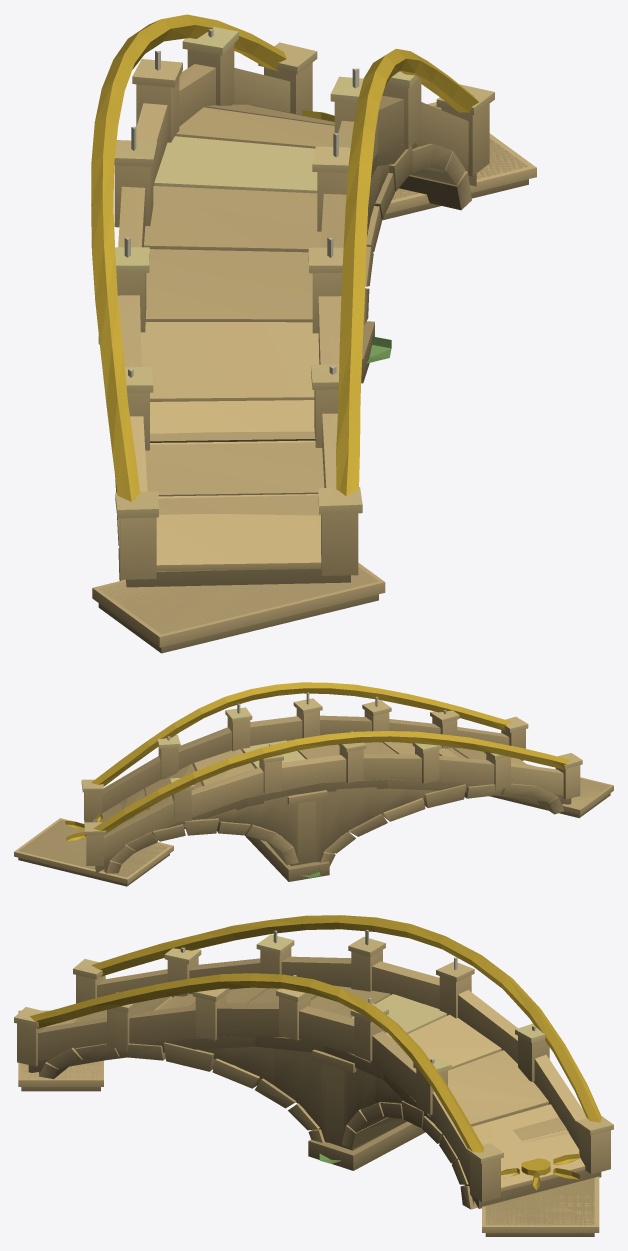
Rendered from shiva-bow.glb.
3 views of the same model, one above another, from view 1: azimuth 30°, elevation 25°; view 2: azimuth 150°, elevation 25°; view 3: azimuth 270°, elevation 25° (orthographic). The views are drawn at different scales.
Parts seen in each view (by area): view 1: bridge-shiva-bow; view 2: bridge-shiva-bow; view 3: bridge-shiva-bow.
Part boxes in pixels (<box>): bridge-shiva-bow: <box>91,14,536,653</box>; bridge-shiva-bow: <box>14,682,613,886</box>; bridge-shiva-bow: <box>14,915,613,1236</box>.
Size of the model in its own units: 1.44 by 0.5254 by 1.59.
